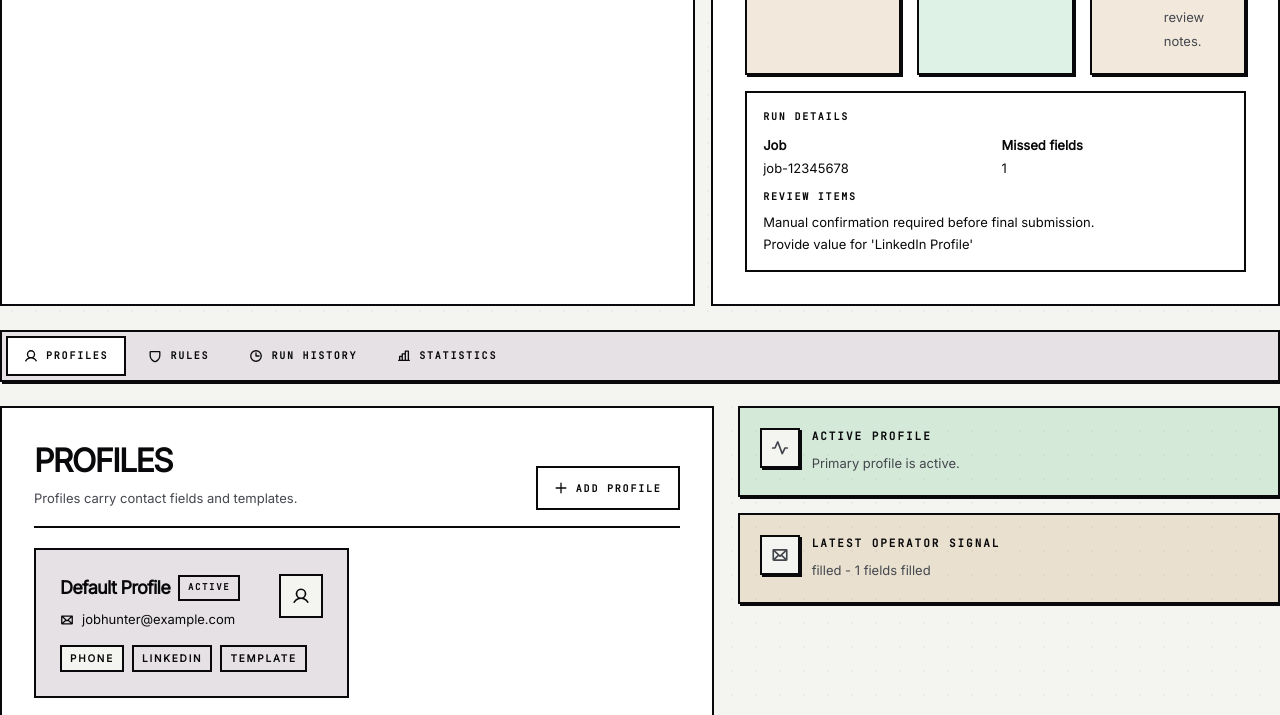
AutoApply page › renders profile data and stats across the main auto-apply tabs
(page scrolled)
Expected: the heading "Default Profile" is shown, [60, 574, 170, 602]
Expected: the text "jobhunter@example.com" is shown, [60, 610, 240, 629]
Click the button "Statistics": {"x": 447, "y": 356} [379, 336, 515, 376]
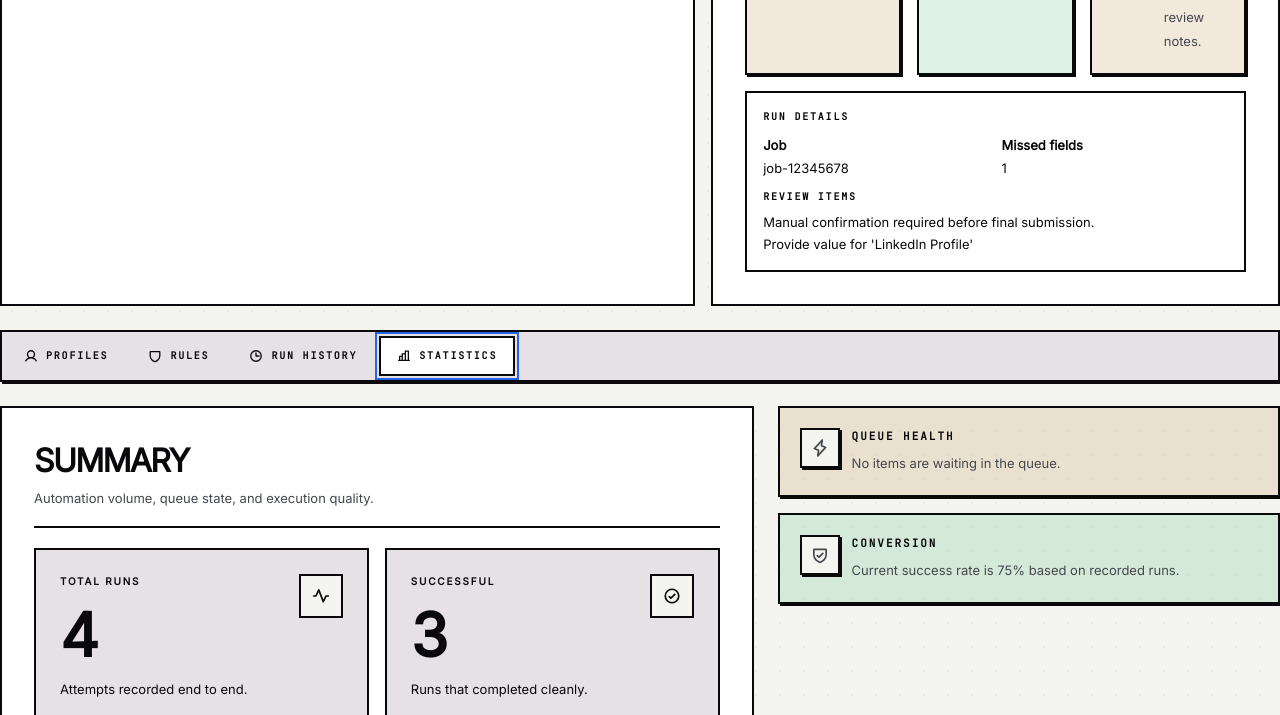
Now the text "Total Runs" is shown, box [60, 575, 140, 587]
Now the text "Successful" is shown, box [411, 575, 495, 587]
Now the heading "Summary" is shown, box [34, 441, 189, 480]
